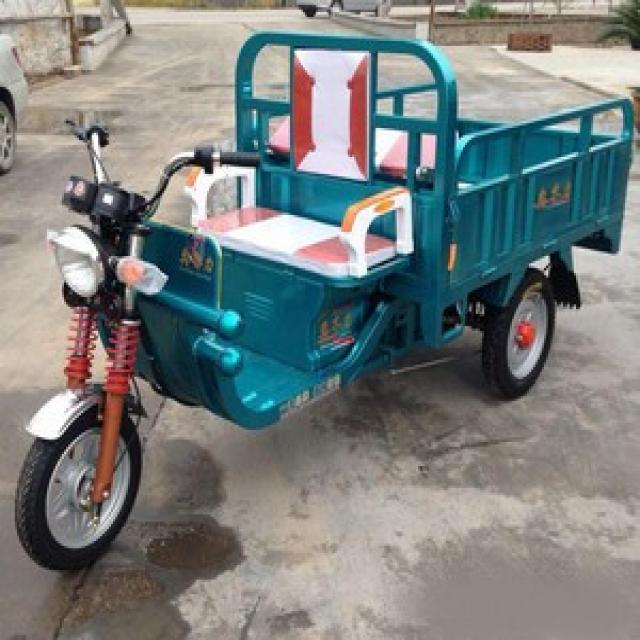car: (0, 36, 30, 174)
tricycle: (11, 24, 632, 570)
